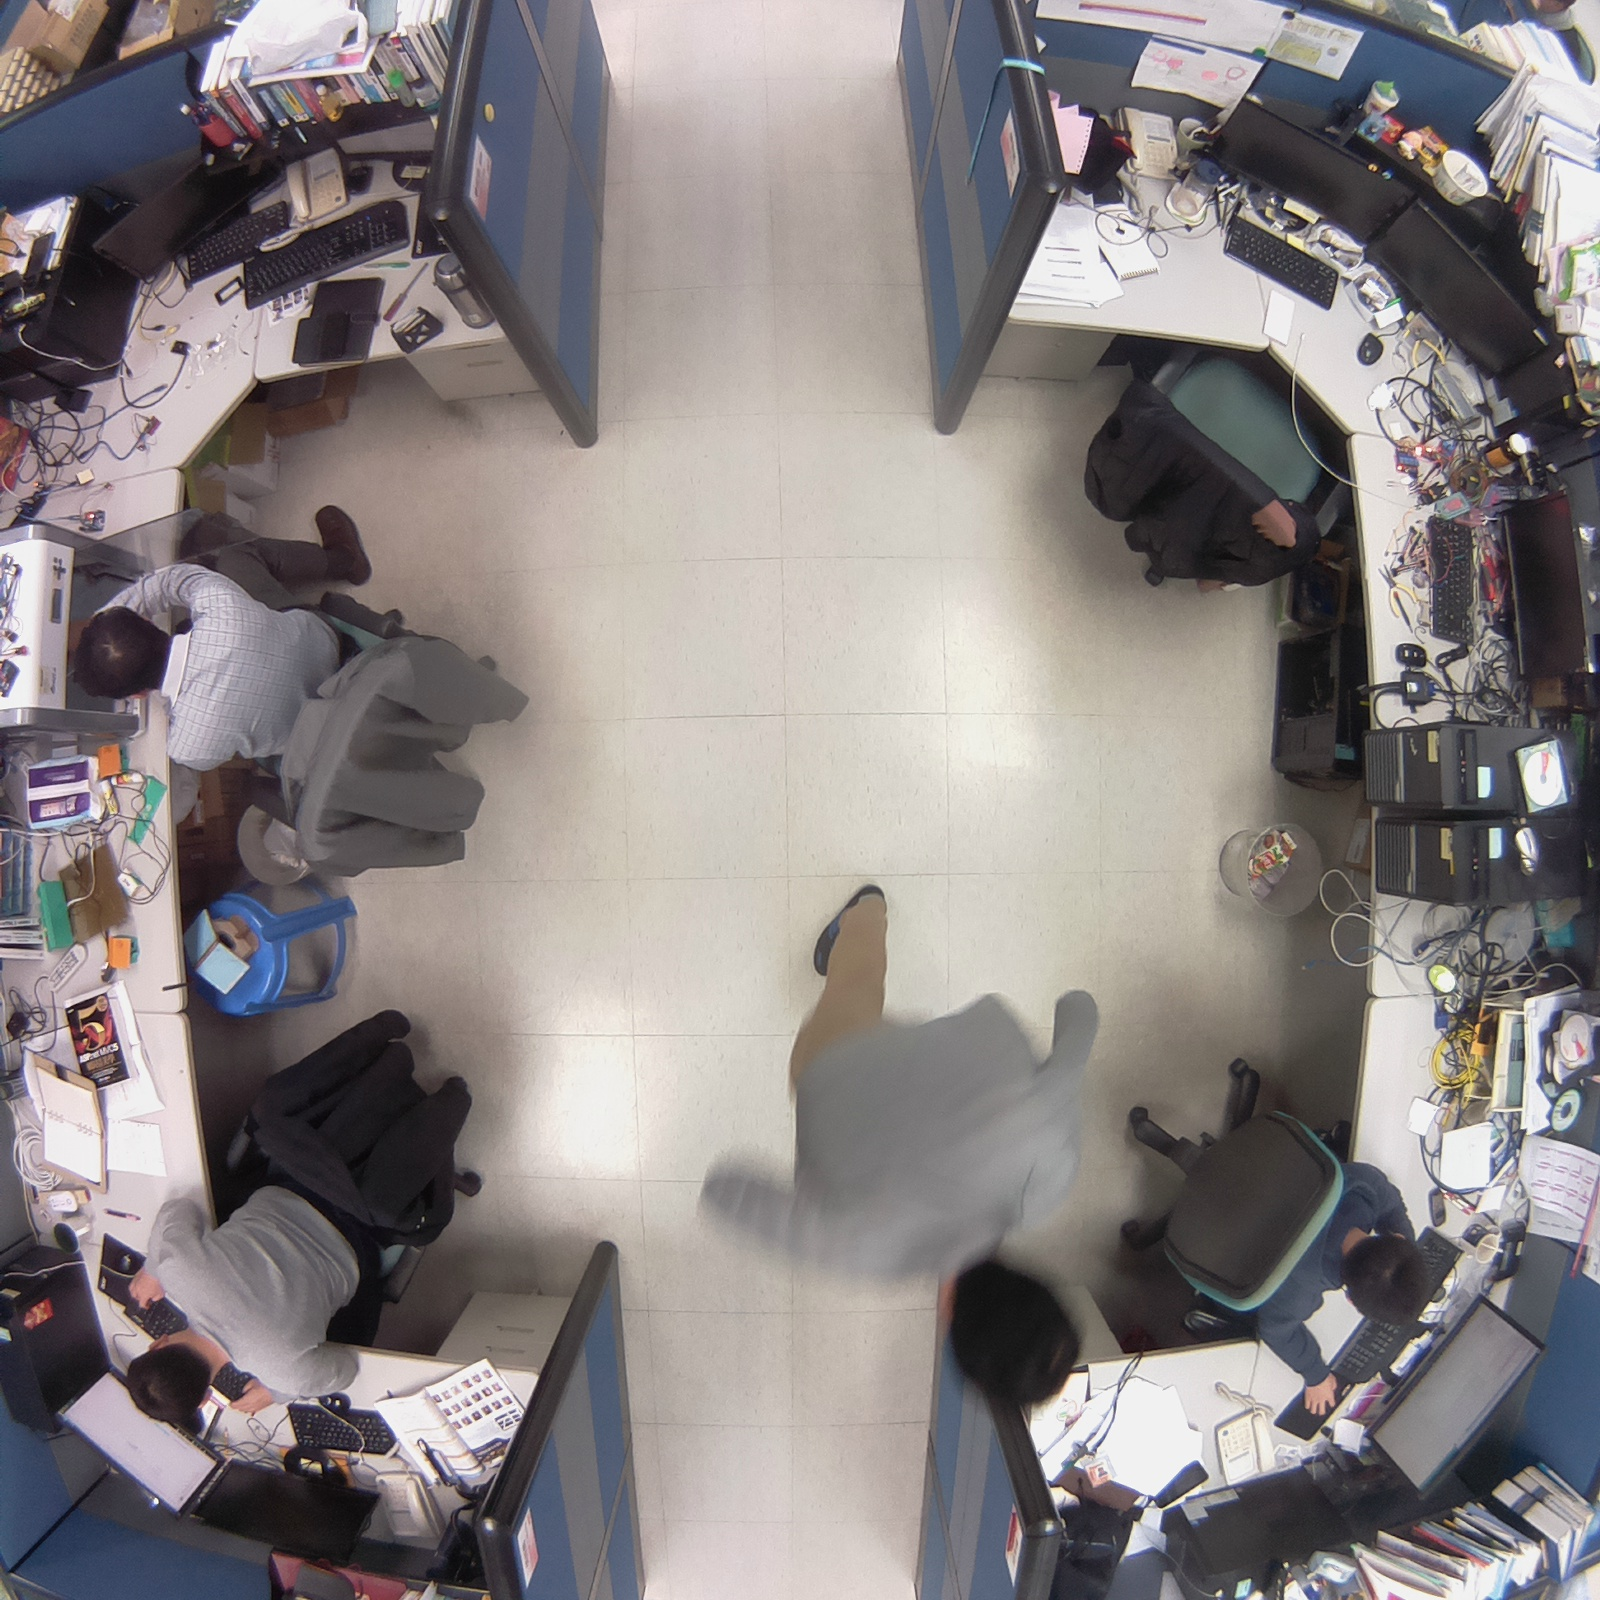chair: (1073, 314, 1360, 601)
head: (940, 1253, 1091, 1417), (57, 604, 176, 708), (1336, 1225, 1434, 1336), (121, 1340, 219, 1436)
sitting: (64, 491, 547, 896), (111, 975, 494, 1438), (1119, 1040, 1439, 1424)
walking: (682, 876, 1109, 1412)
